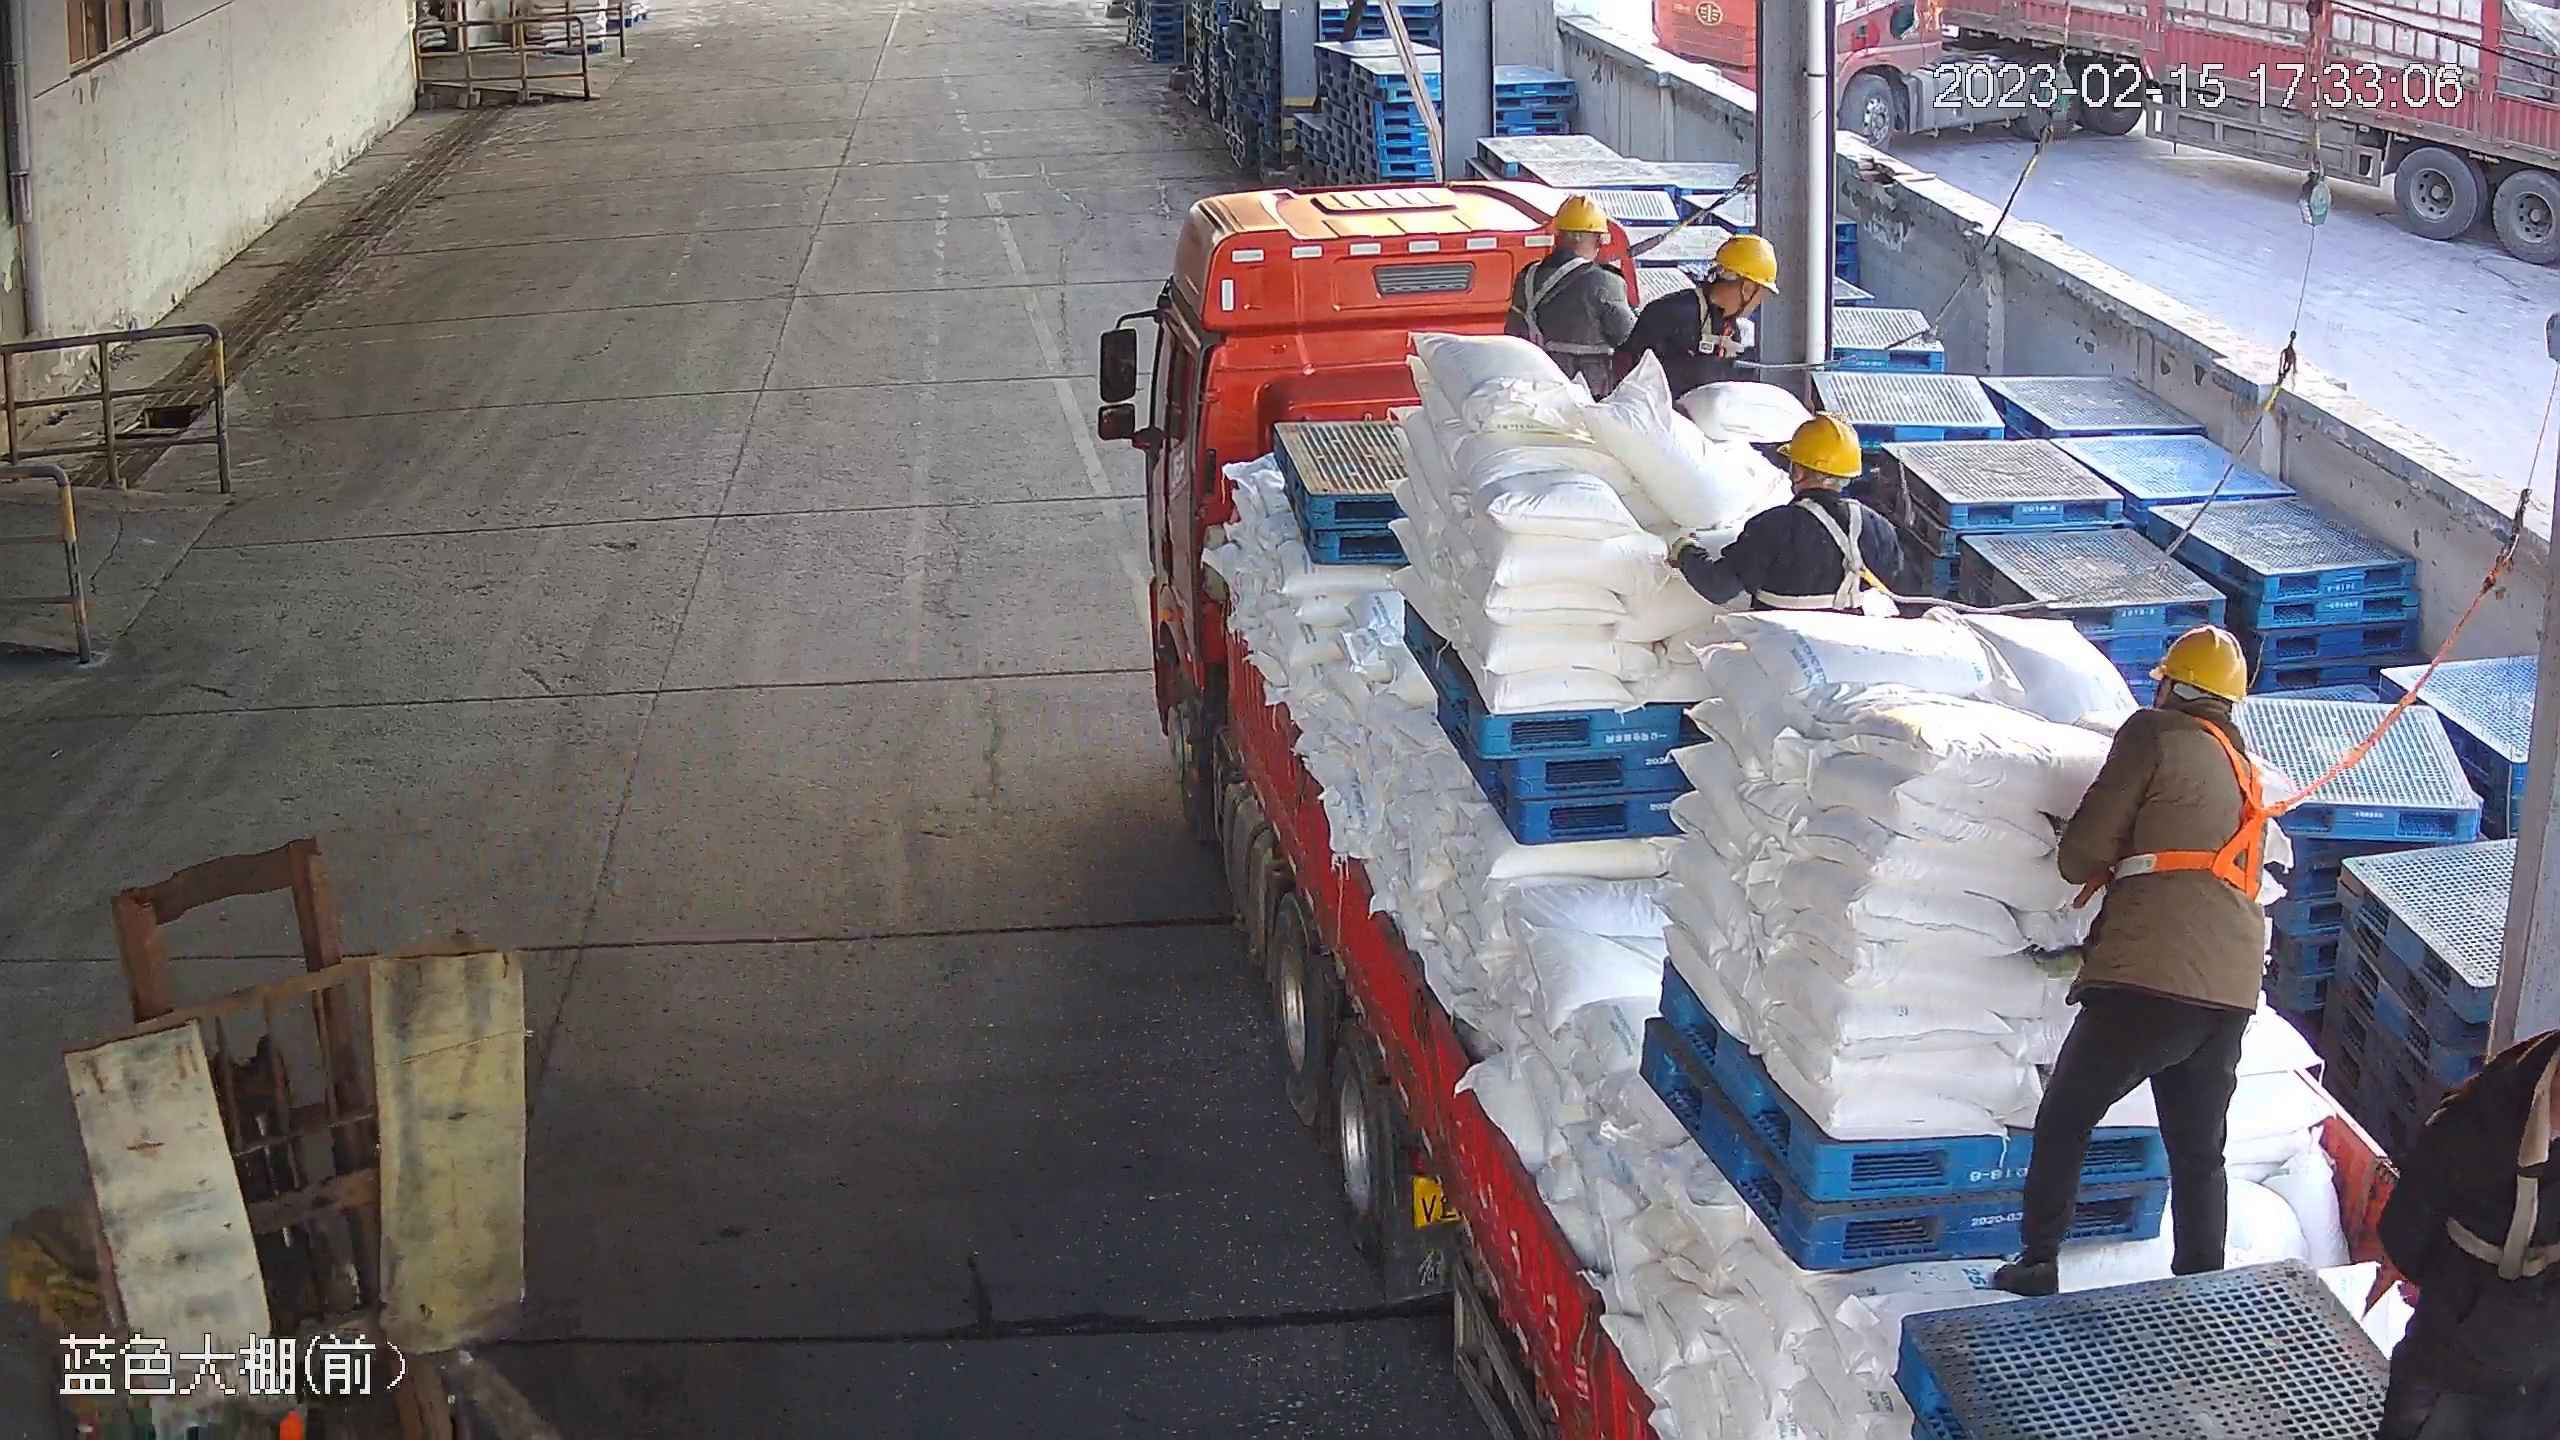belt: (2066, 710, 2292, 903), (1750, 495, 1914, 619), (1510, 257, 1650, 360), (1669, 286, 1775, 378)
head: (2102, 626, 2261, 773), (1737, 413, 1900, 539), (1637, 232, 1783, 338), (1506, 193, 1629, 301)
helmet: (2146, 625, 2250, 707), (1773, 411, 1863, 479), (1713, 232, 1782, 297), (1551, 194, 1612, 235)
people: (1989, 629, 2269, 1297)
truck: (1142, 177, 2560, 1440)
